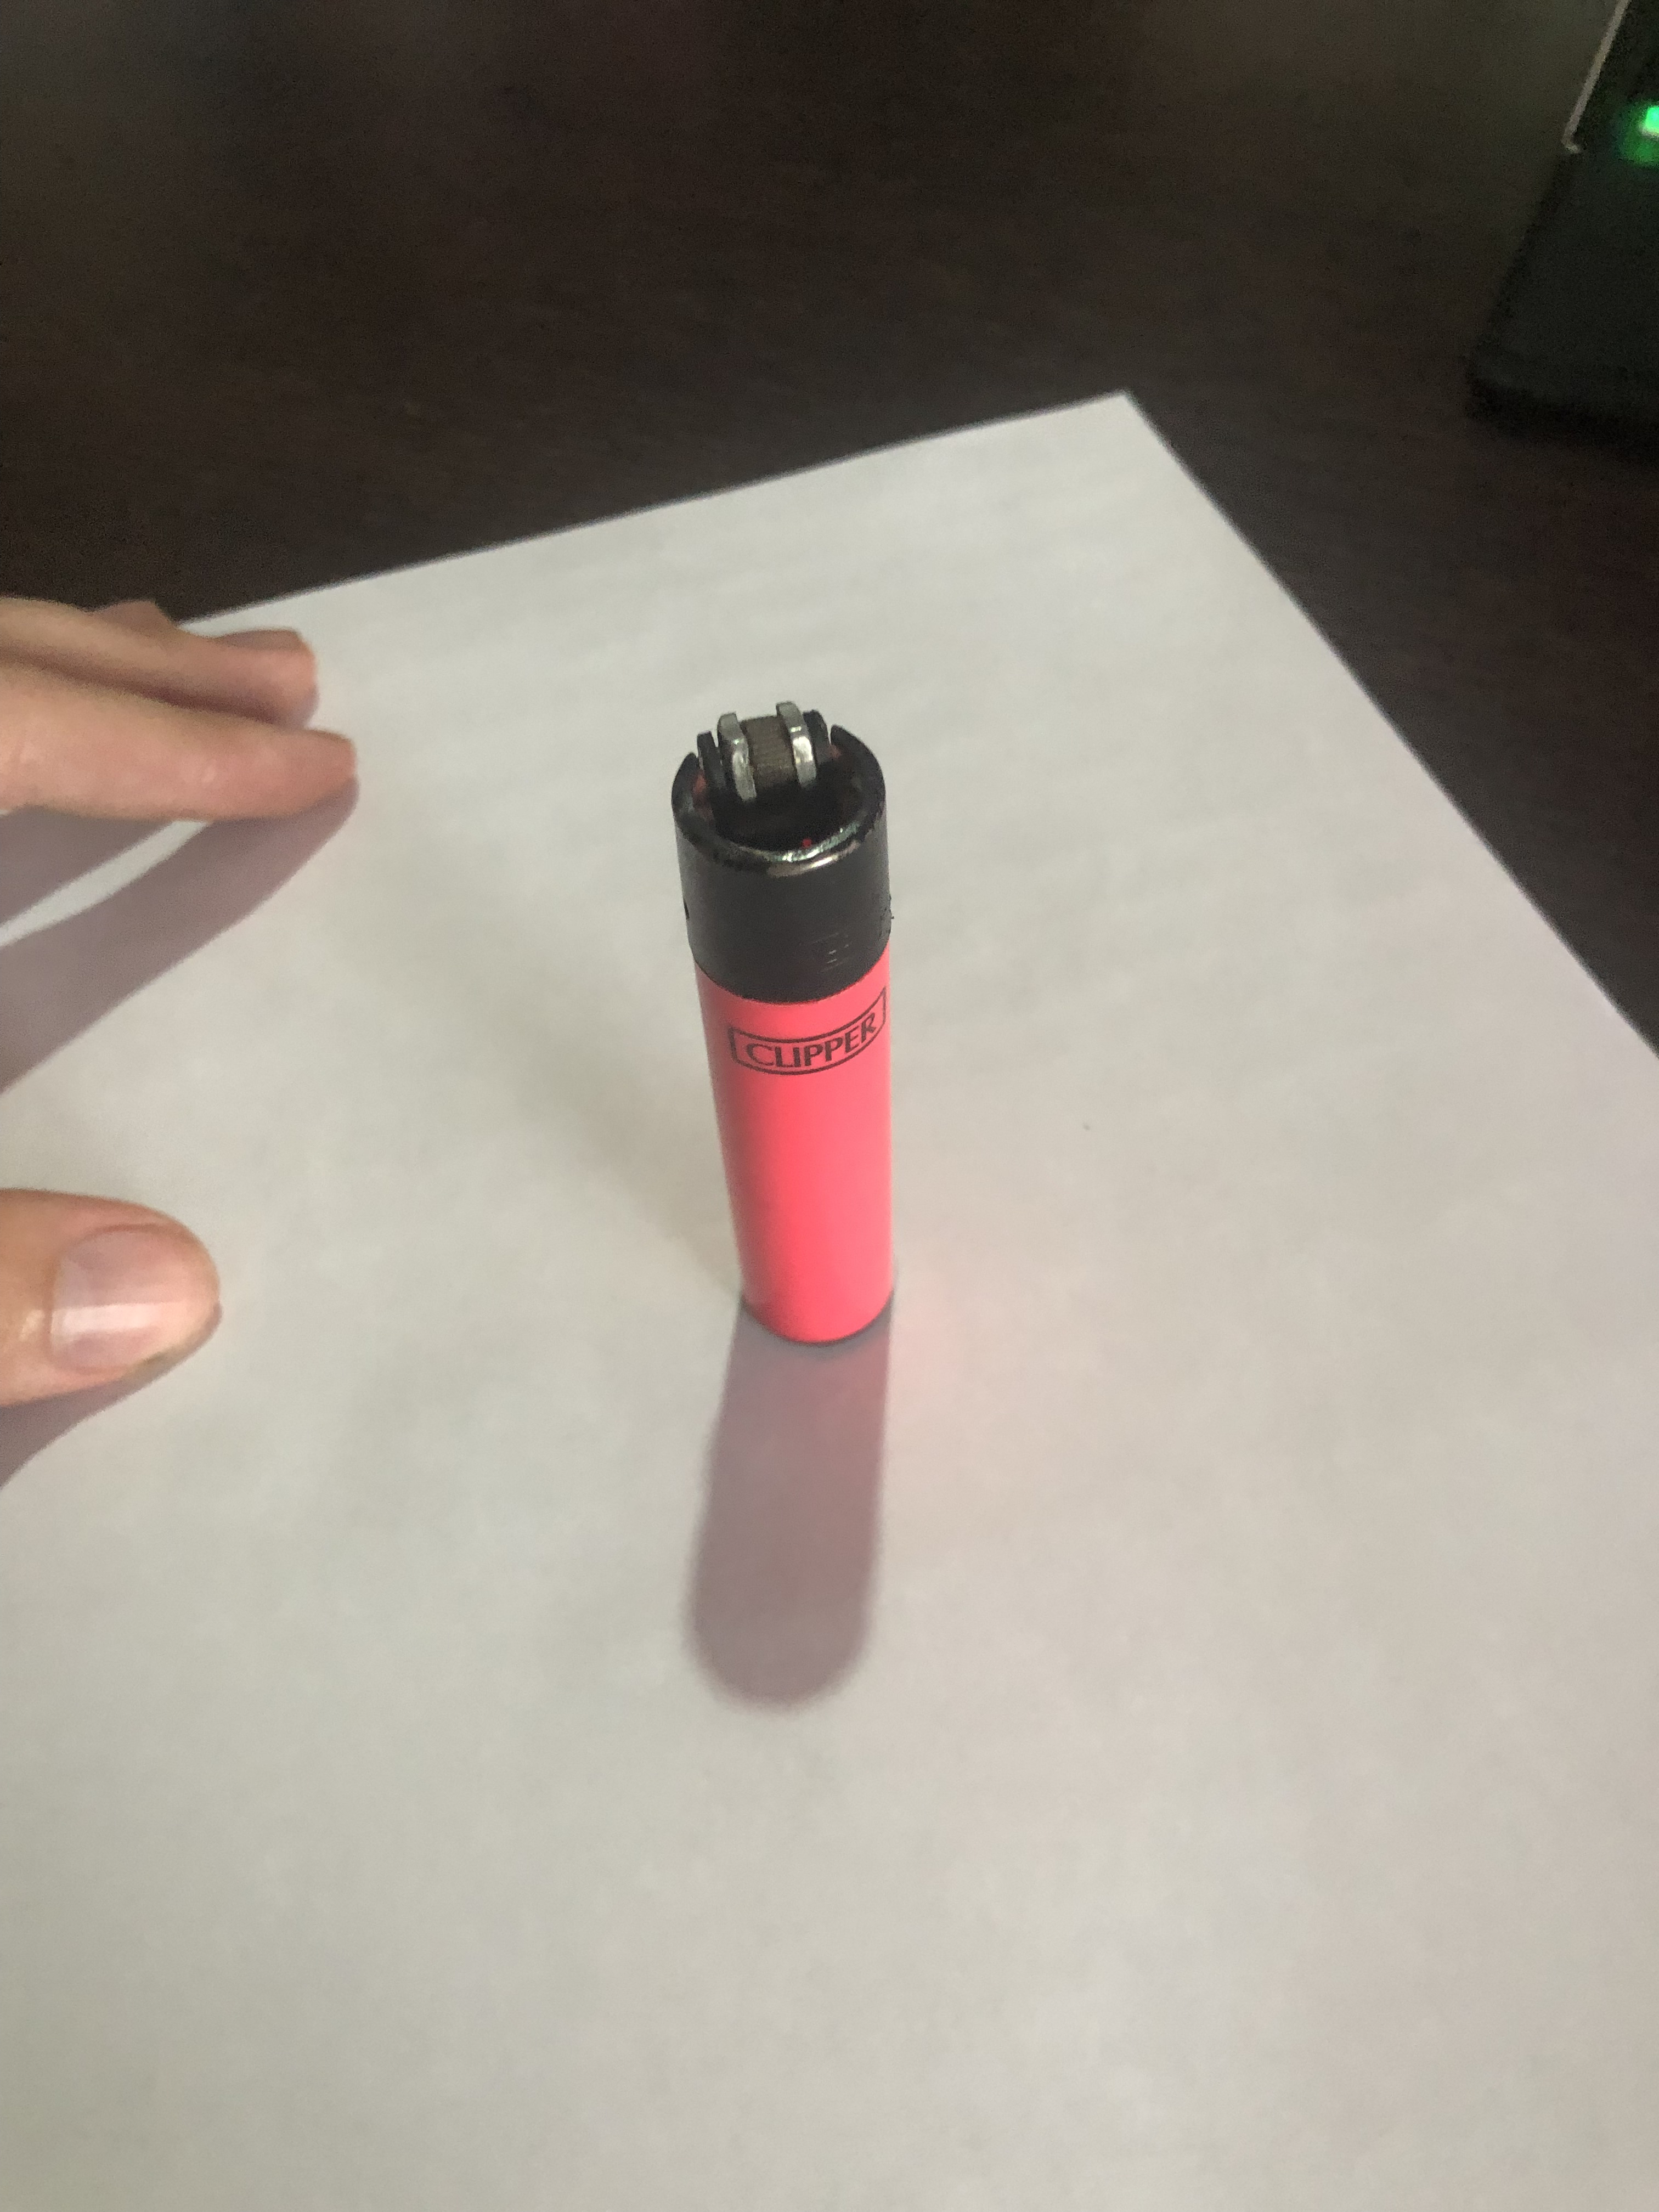Mechero: (653, 698, 953, 1352)
